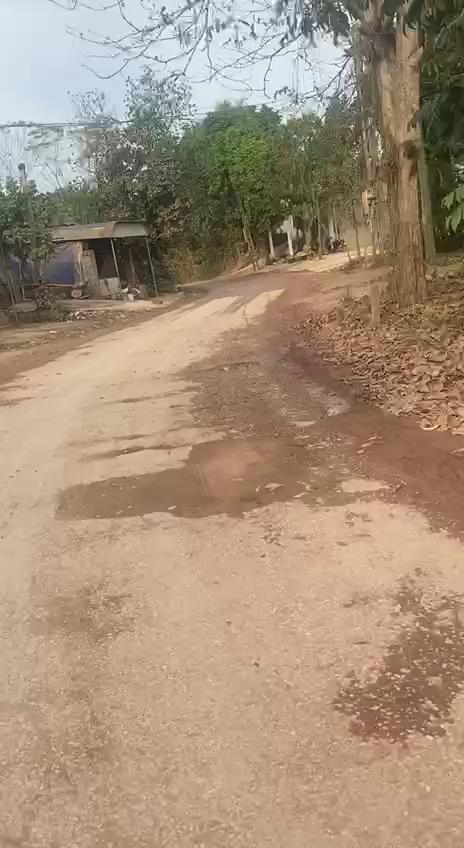pothole: (53, 422, 332, 532), (343, 590, 464, 748)
